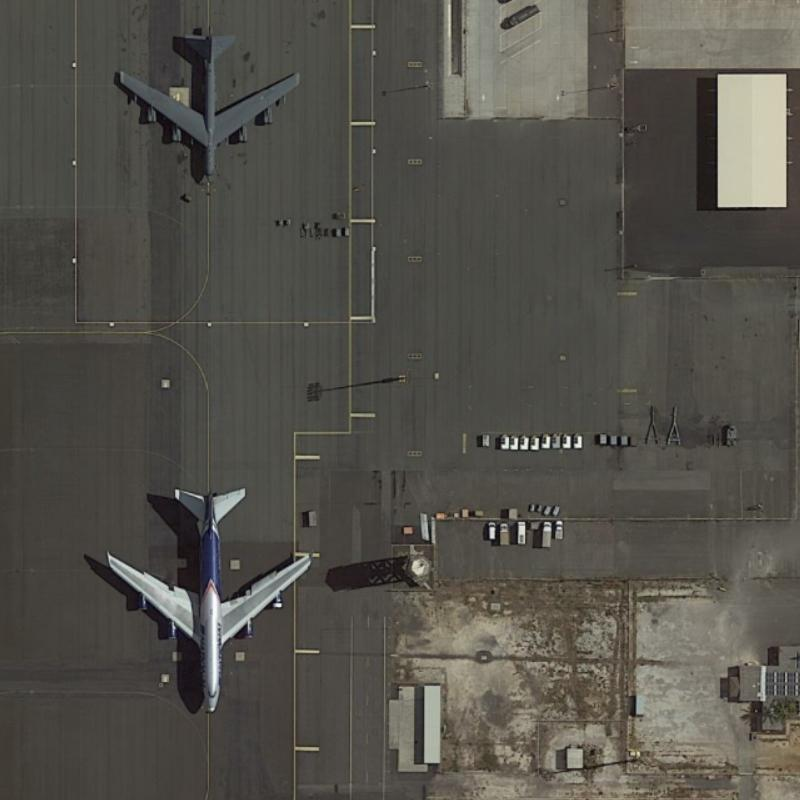A11: (95, 480, 314, 721)
A8: (109, 20, 303, 182)
